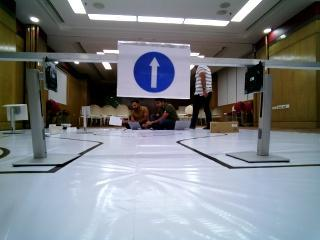straight: (116, 40, 191, 100)
